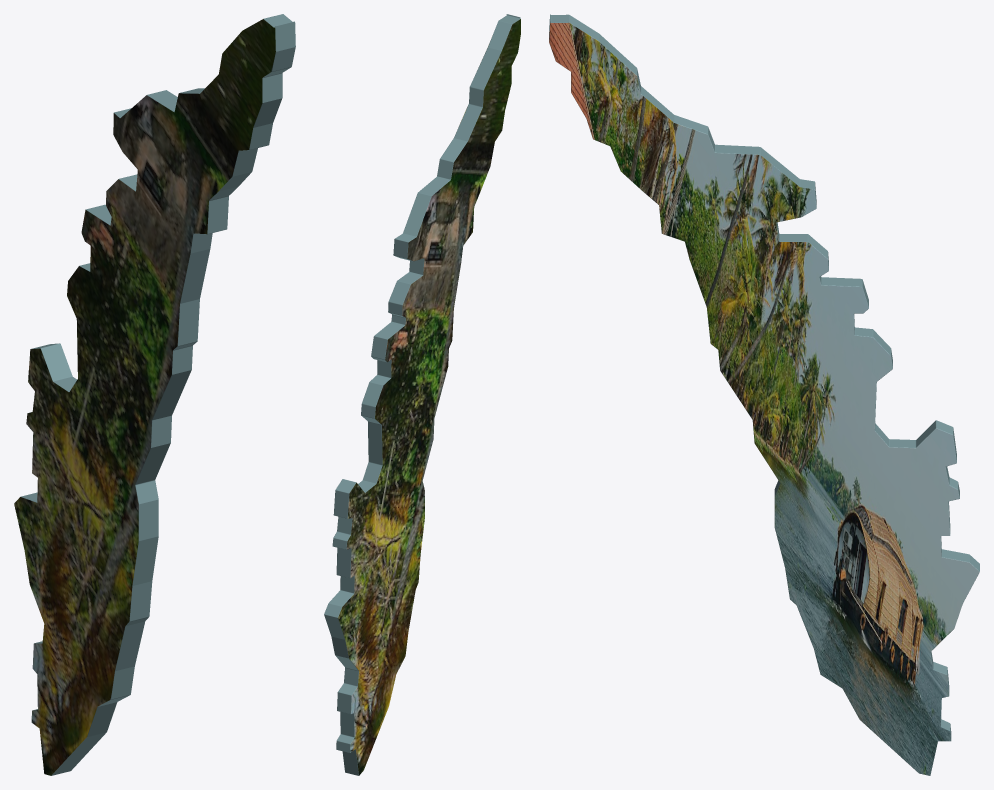
The model's file is kerala .glb.
3 renders of one model, left to right at view 1: azimuth 30°, elevation 25°; view 2: azimuth 150°, elevation 25°; view 3: azimuth 270°, elevation 25°, orthographic. The views are drawn at different scales.
Visible parts, largest first — view 1: Object_46; view 2: Object_46; view 3: Object_46.
Part boxes in pixels (<box>): Object_46: <box>14,14,295,775</box>; Object_46: <box>324,14,520,775</box>; Object_46: <box>549,14,979,775</box>.
Size of the model in its own units: 0.02 by 0.7378 by 0.3821.
1 material, 1 textured.
